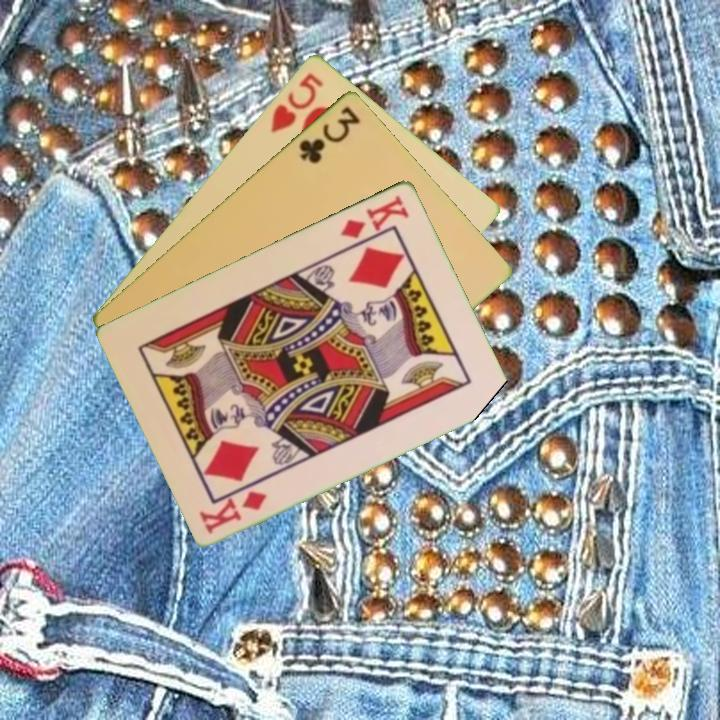3c: (295, 102, 364, 166)
5h: (266, 68, 327, 135)
Kd: (336, 191, 412, 241), (196, 486, 270, 536)
